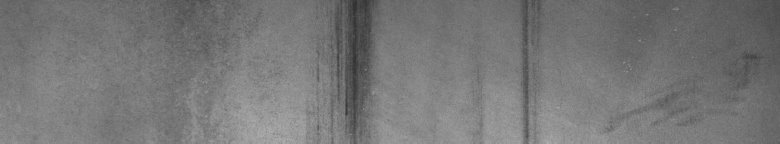ka: (317, 4, 376, 136)
